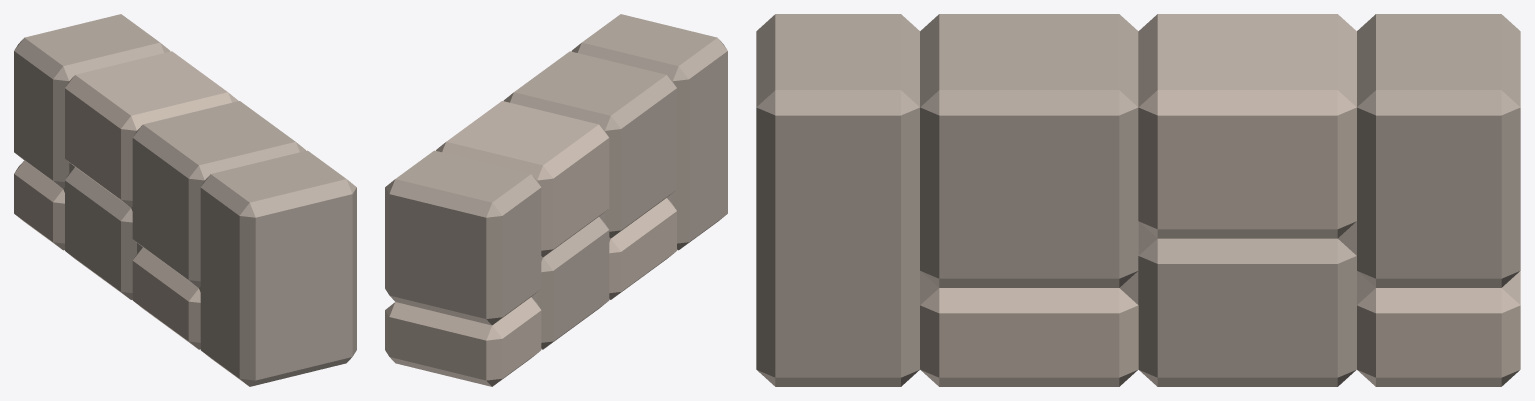
The model's file is Stone_Curb_4.glb.
The picture shows the model from 3 angles, left to right: view 1: azimuth 30°, elevation 25°; view 2: azimuth 150°, elevation 25°; view 3: azimuth 270°, elevation 25°; orthographic projection. The views are drawn at different scales.
Parts seen in each view (by area): view 1: object1; view 2: object1; view 3: object1.
Boxes of the visible parts, box(x1,y1,x2,y2) form: object1: box(14, 14, 356, 386); object1: box(385, 14, 727, 386); object1: box(756, 14, 1520, 386).
Size of the model in its own units: 0.2 by 0.3 by 0.7.
